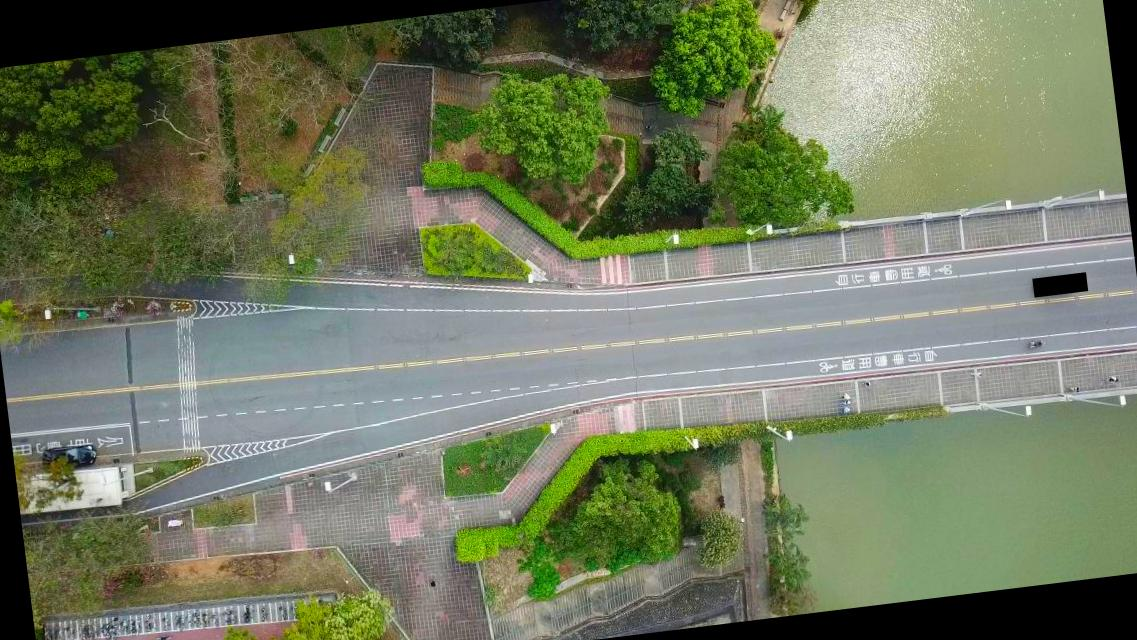vehicle: (41, 442, 97, 471)
